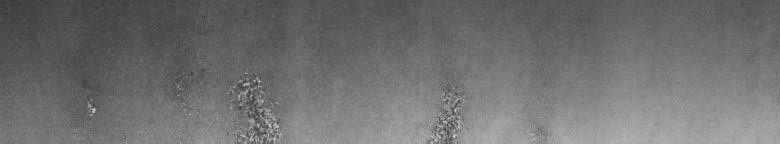hc: (168, 61, 283, 136)
